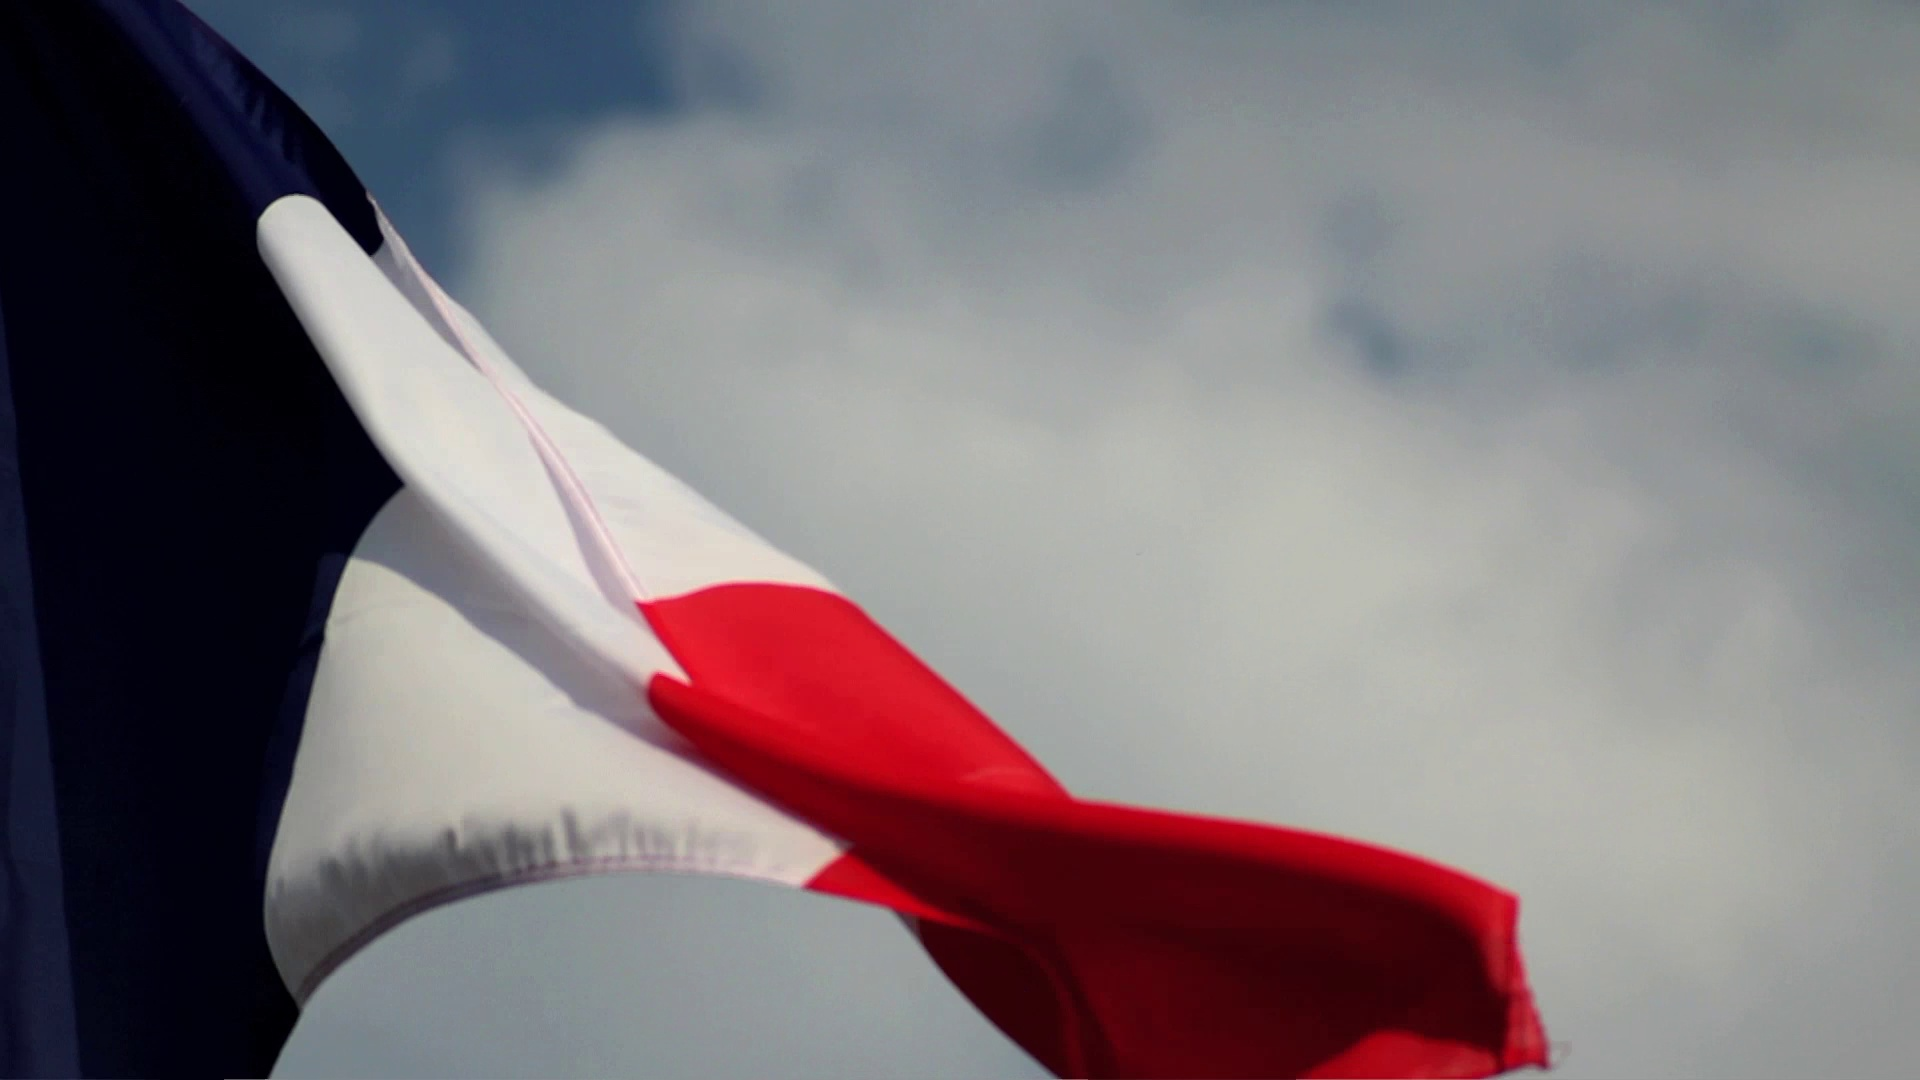French Flag: (1, 1, 1545, 1080)
